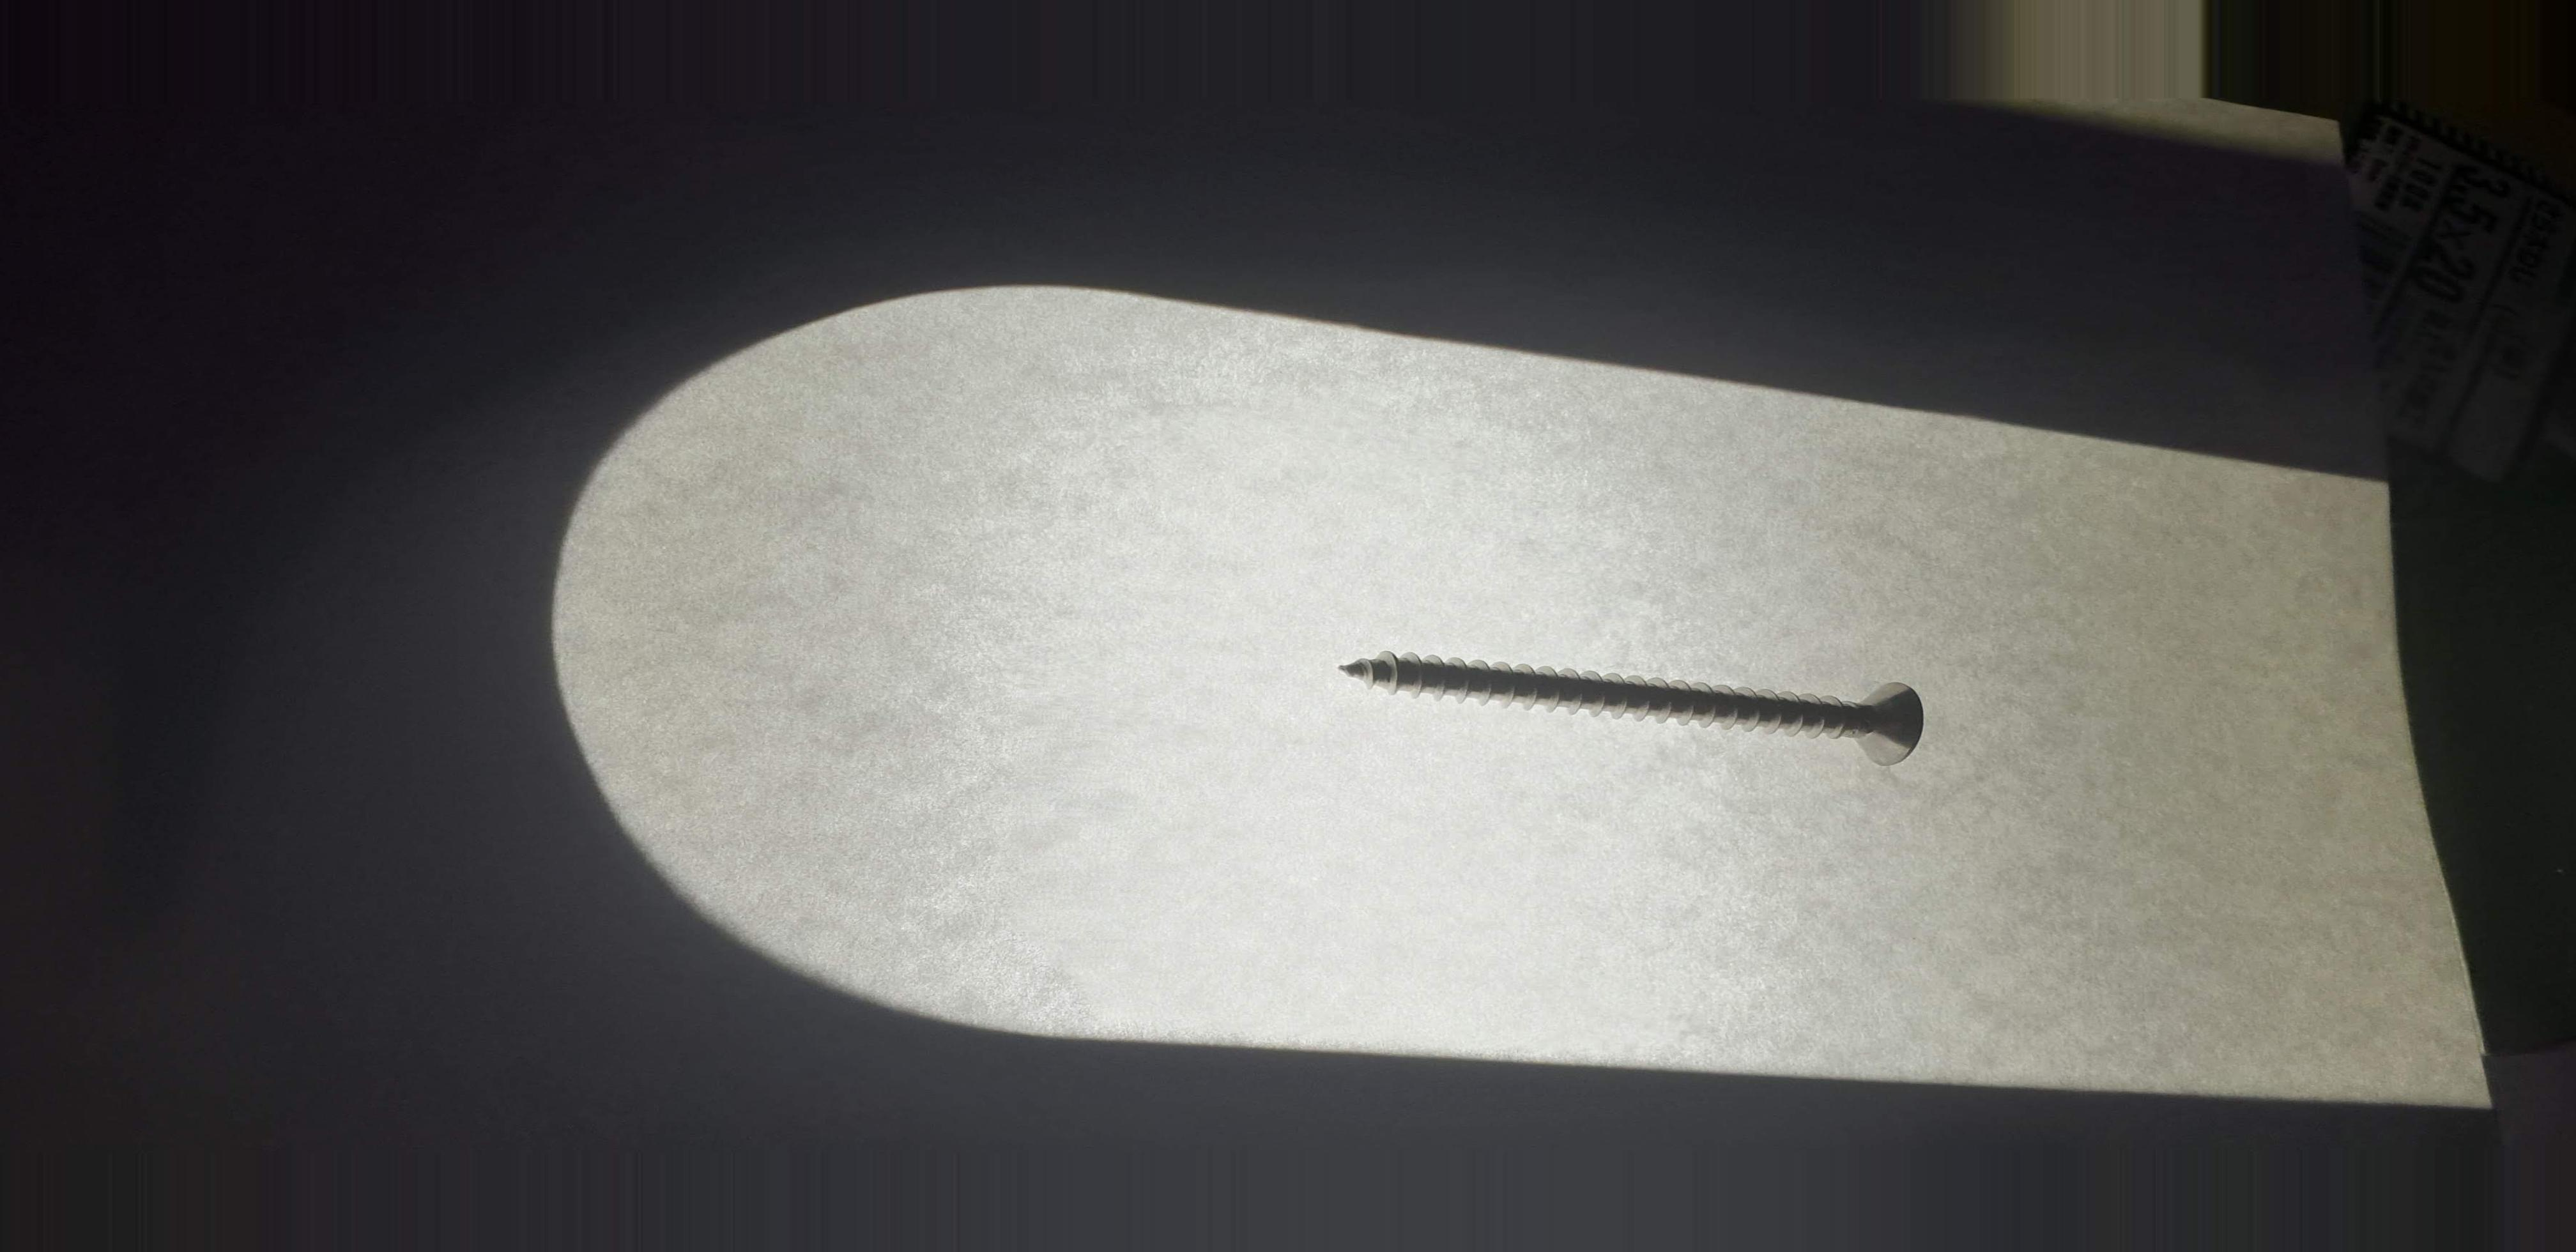S001: (1291, 606, 1963, 807)
